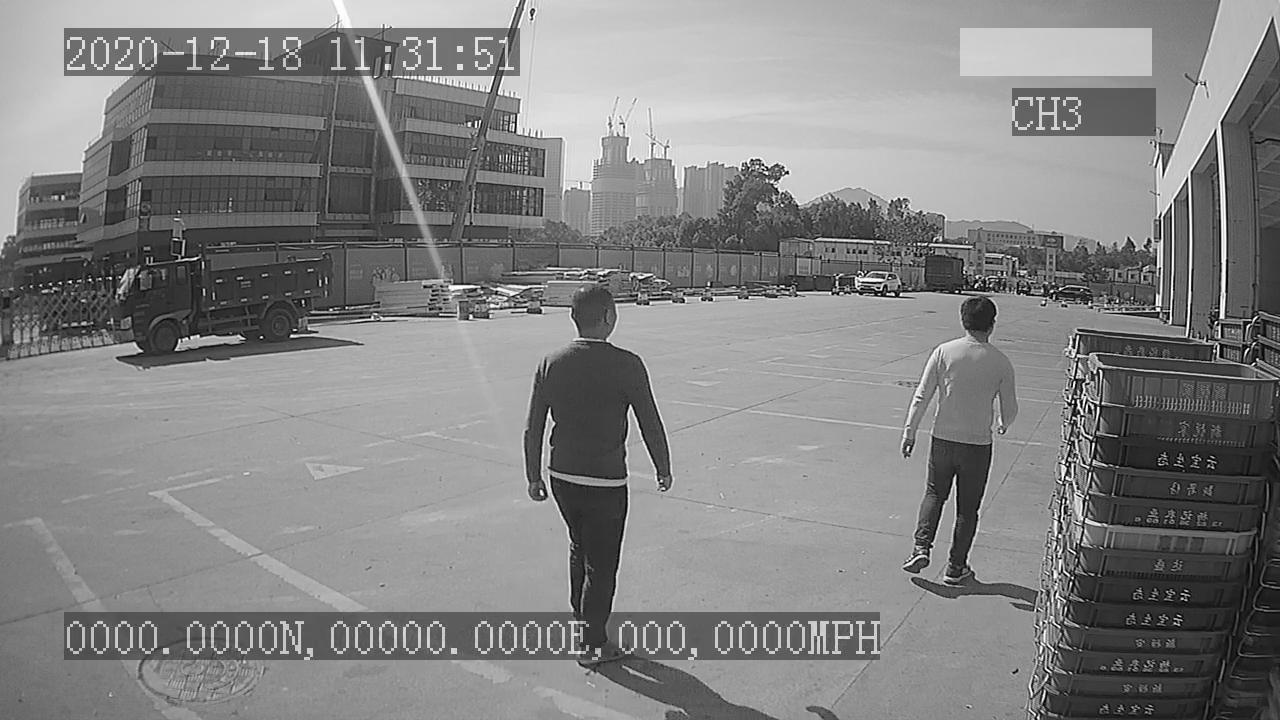person: (899, 290, 1023, 591)
